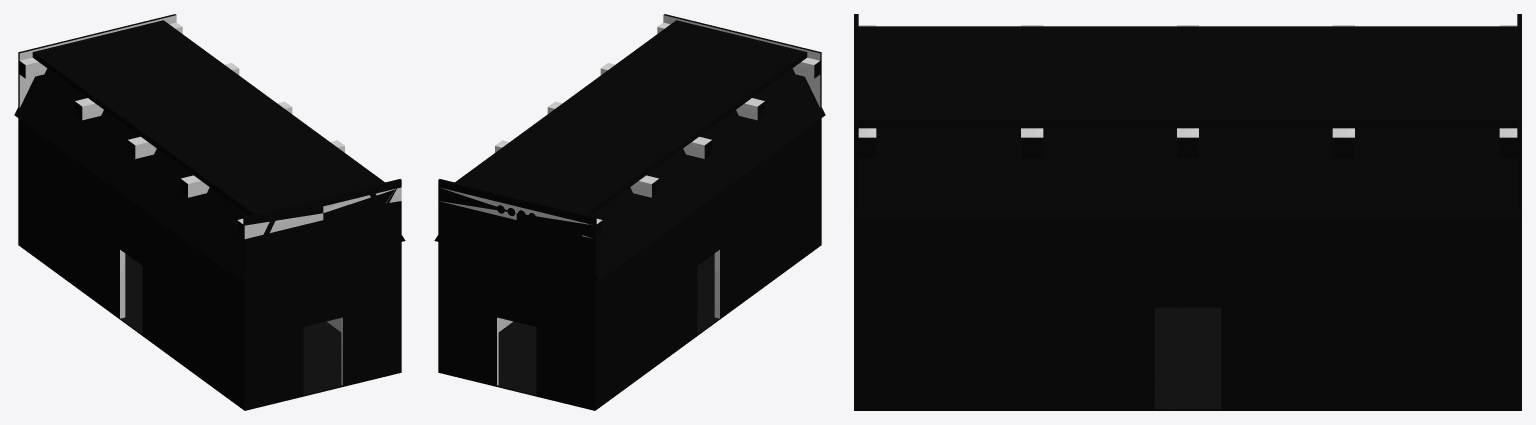
The model's file is Tunnel3-2.fbx.
3 views of the same model, side by side, from view 1: azimuth 30°, elevation 25°; view 2: azimuth 150°, elevation 25°; view 3: azimuth 270°, elevation 25° (orthographic). The views are drawn at different scales.
Parts seen in each view (by area): view 1: node_id9 (×3); view 2: node_id9 (×3); view 3: node_id9 (×3).
Boxes of the visible parts, box(x1,y1,x2,y2) form: node_id9 (×3): box(14, 14, 405, 410); node_id9 (×3): box(434, 14, 825, 410); node_id9 (×3): box(854, 14, 1521, 410).
Size of the model in its own units: 0.4579 by 0.512 by 1.09.
4 materials, 3 textured.
